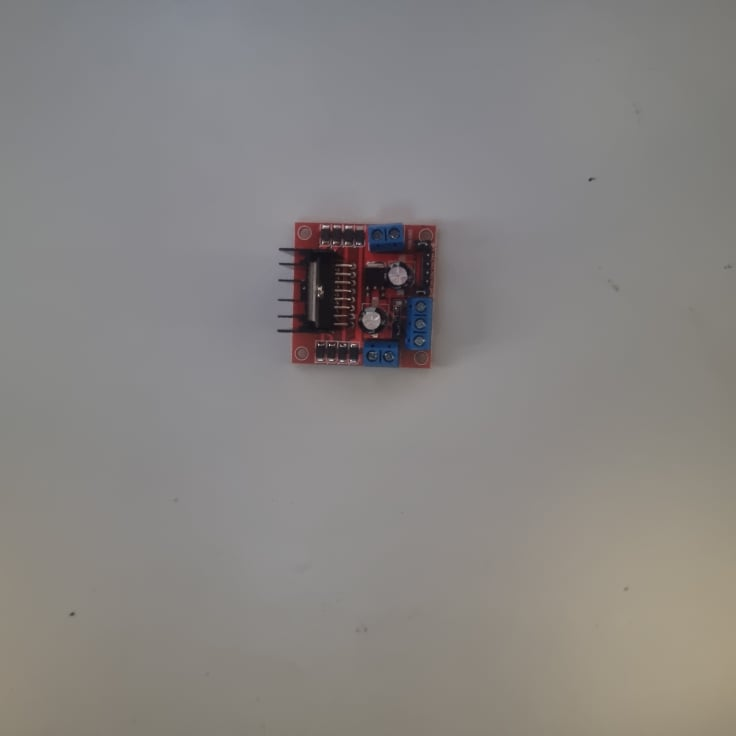MOTOR: (278, 220, 437, 374)
